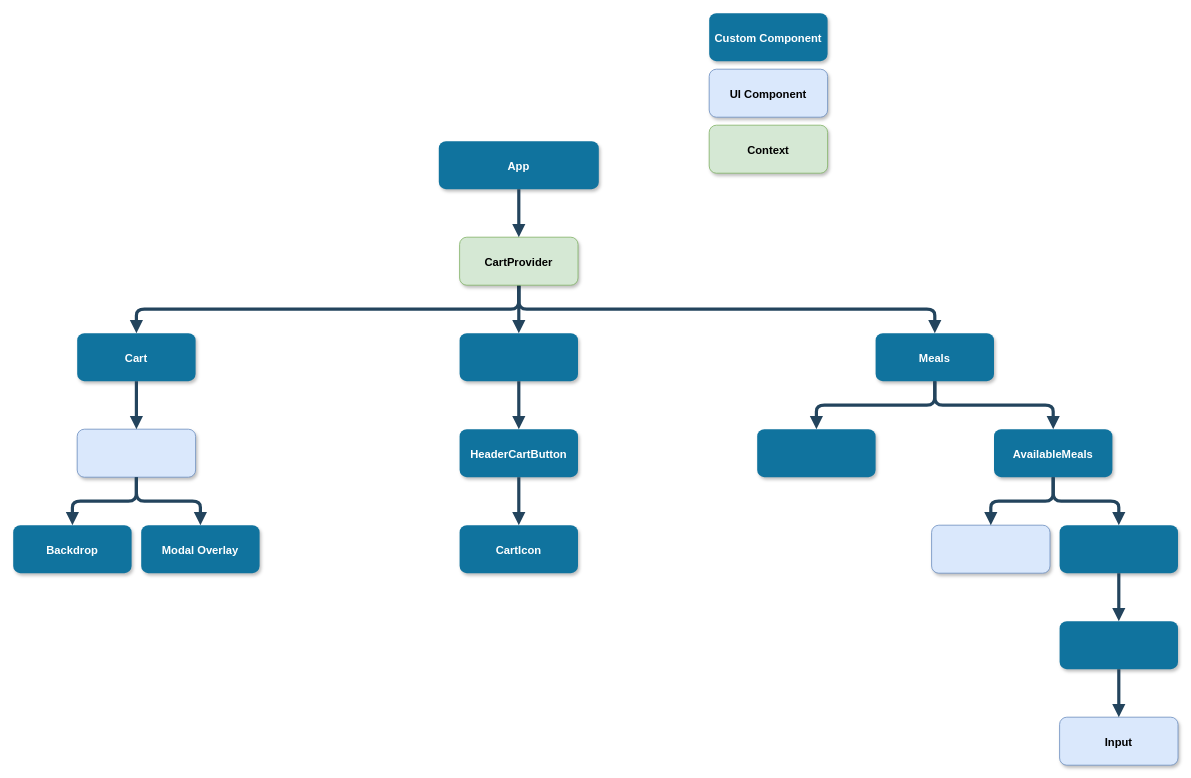
This 1191x778 diagram has some shape labels left out. Each missing label, with the centre of its shape:
Card: (991,550)
Header: (519,358)
MealItem: (1119,550)
MealItemForm: (1119,646)
MealsSummary: (817,454)
Modal: (136,454)
